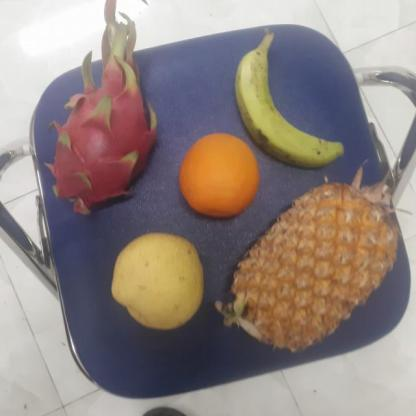banana: (237, 40, 339, 169)
guava: (110, 233, 209, 329)
orange: (176, 132, 262, 219)
pineapple: (228, 183, 404, 356)
pitaya: (35, 62, 162, 214)
